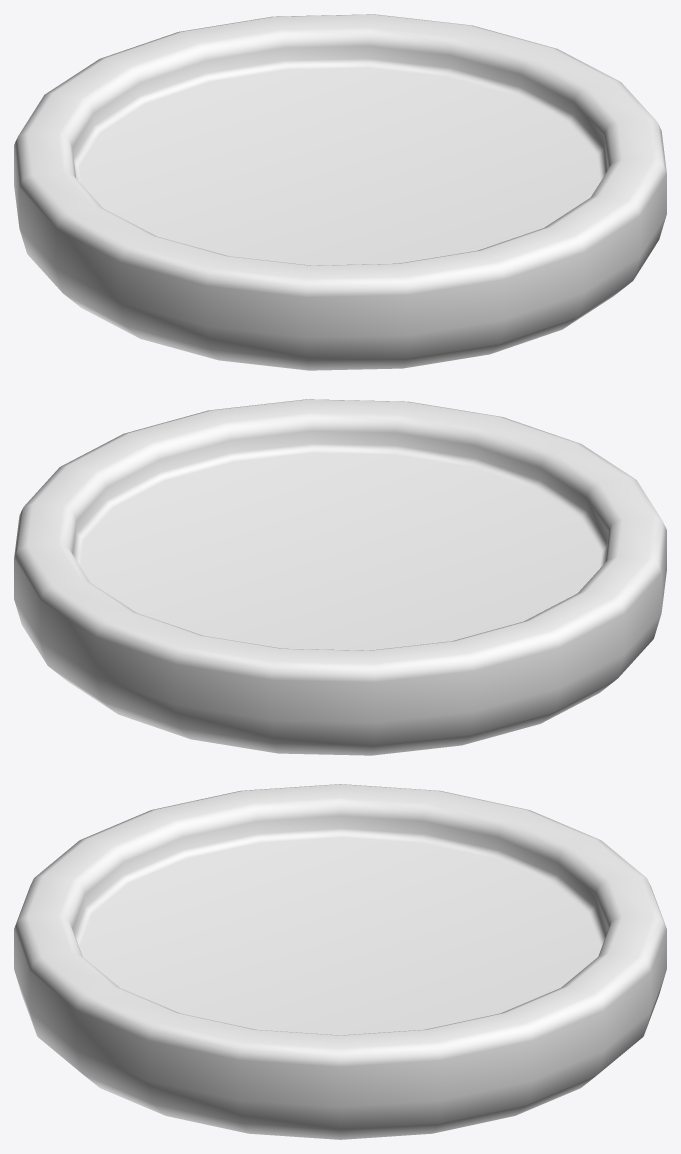
Rendered from Plate.fbx.
3 renders of one model, top to bottom at view 1: azimuth 30°, elevation 25°; view 2: azimuth 150°, elevation 25°; view 3: azimuth 270°, elevation 25°, orthographic.
Visible parts, largest first — view 1: Plate; view 2: Plate; view 3: Plate.
Boxes of the visible parts, x1,y1,x2,y2 form: Plate: (14, 14, 666, 370); Plate: (14, 399, 666, 755); Plate: (14, 784, 666, 1139).
Bounding box in the file's own units: 26.48 × 4.68 × 26.48.
